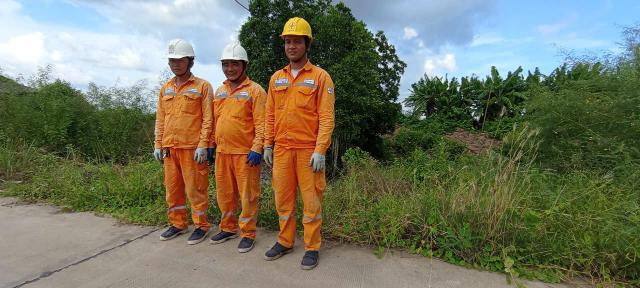gloves: (310, 148, 325, 175), (260, 143, 277, 166), (241, 148, 261, 166), (205, 144, 219, 166), (192, 144, 207, 163), (150, 145, 166, 161)
helmet: (277, 11, 315, 44), (163, 30, 197, 63), (218, 35, 249, 68)
shoes: (260, 235, 295, 267), (158, 218, 190, 241), (297, 244, 323, 272), (183, 221, 210, 245), (209, 223, 240, 243), (234, 231, 256, 255)
